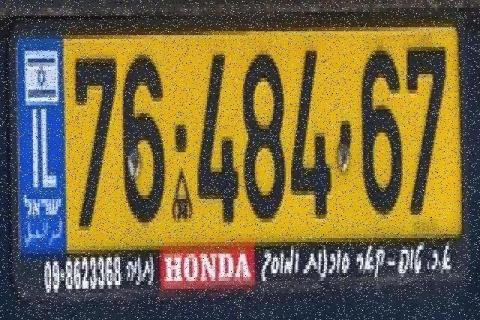LicensePlate: (3, 4, 475, 296)
